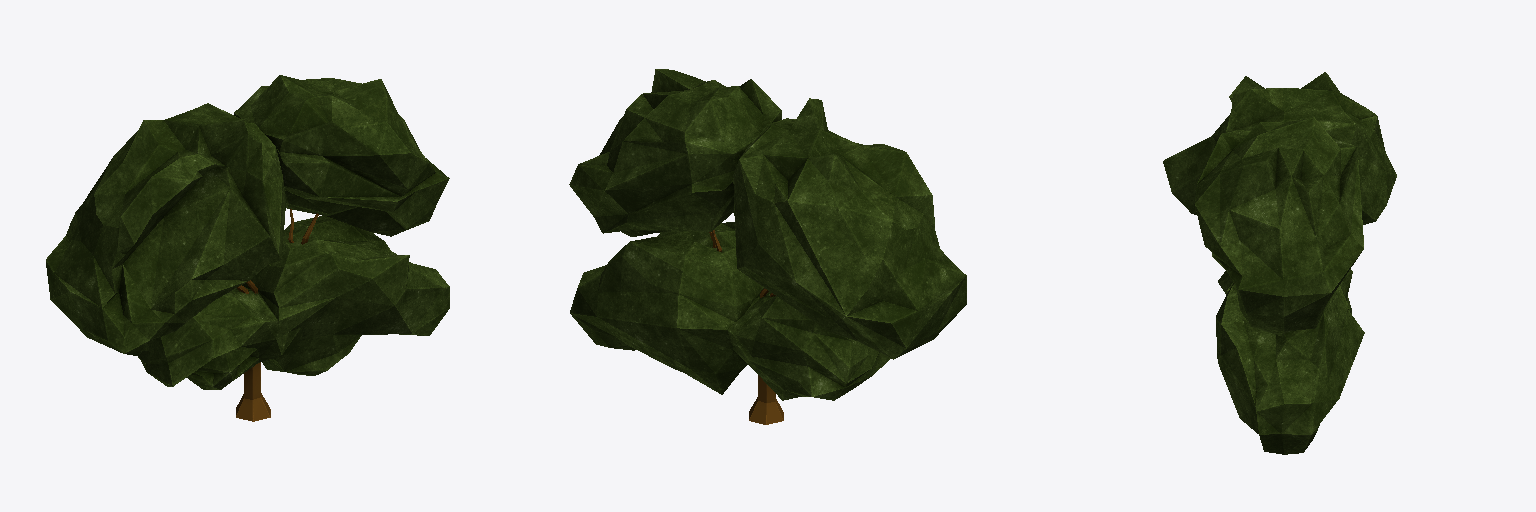
3 views of the same model, side by side, from view 1: azimuth 30°, elevation 25°; view 2: azimuth 150°, elevation 25°; view 3: azimuth 270°, elevation 25° (orthographic).
Parts seen in each view (by area): view 1: AshTree_mesh; view 2: AshTree_mesh; view 3: AshTree_mesh.
Boxes of the visible parts, x1,y1,x2,y2 form: AshTree_mesh: [46, 75, 449, 421]; AshTree_mesh: [569, 69, 966, 424]; AshTree_mesh: [1163, 72, 1396, 454].
Size of the model in its own units: 16.81 by 13.89 by 9.29.
Materials: 1 (1 with a texture image).